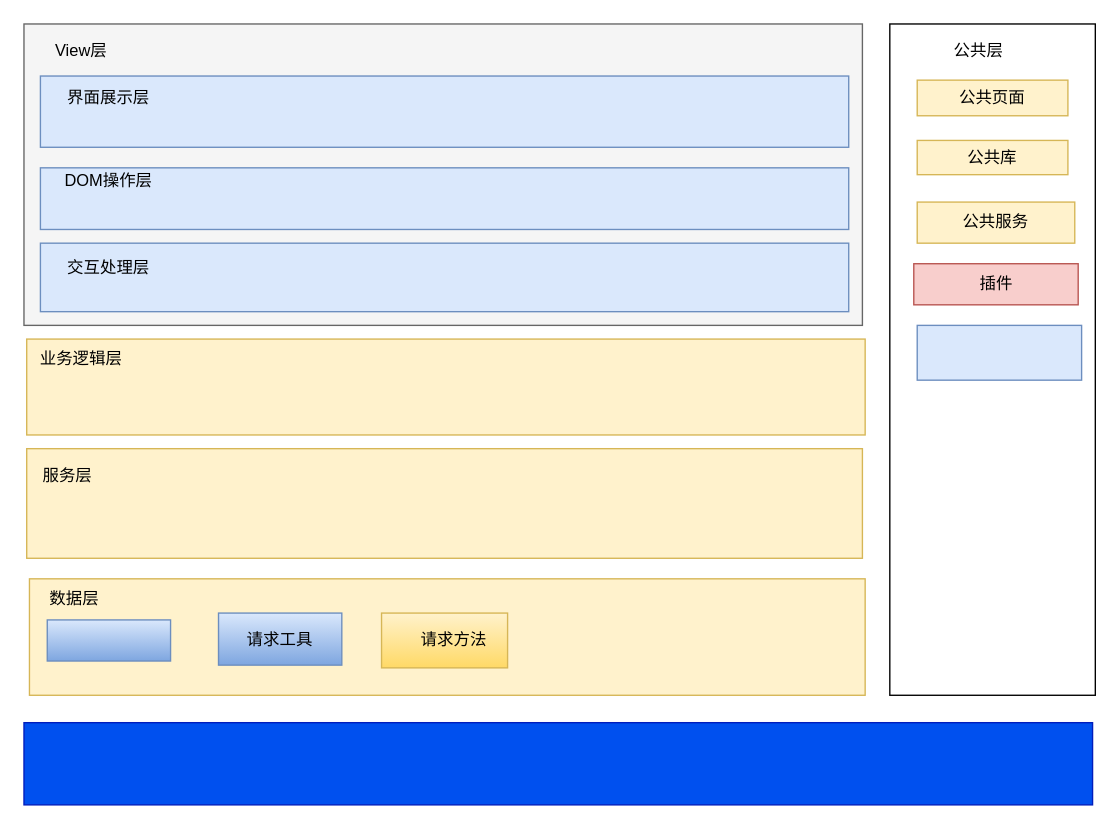
Some shapes in this 1119 by 829 pixel diagram are drawn without their labels. Each missing label, with the centre of its shape:
"后端" goes at point 558,763.
"地址管理" goes at point 108,640.
"路由" goes at point 999,352.
